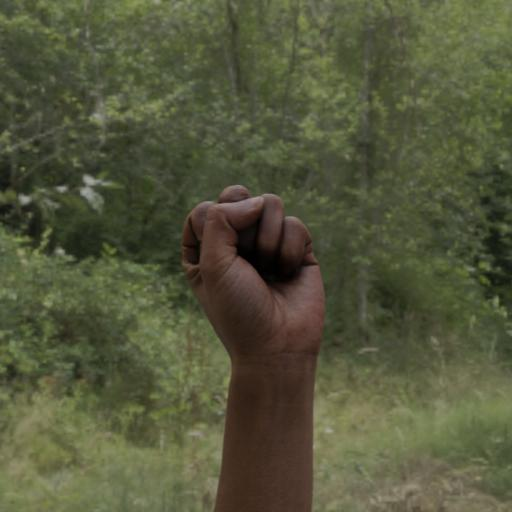S: (126, 122, 374, 462)
